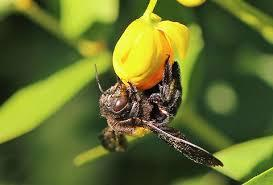Xylocopa: (75, 36, 220, 170)
